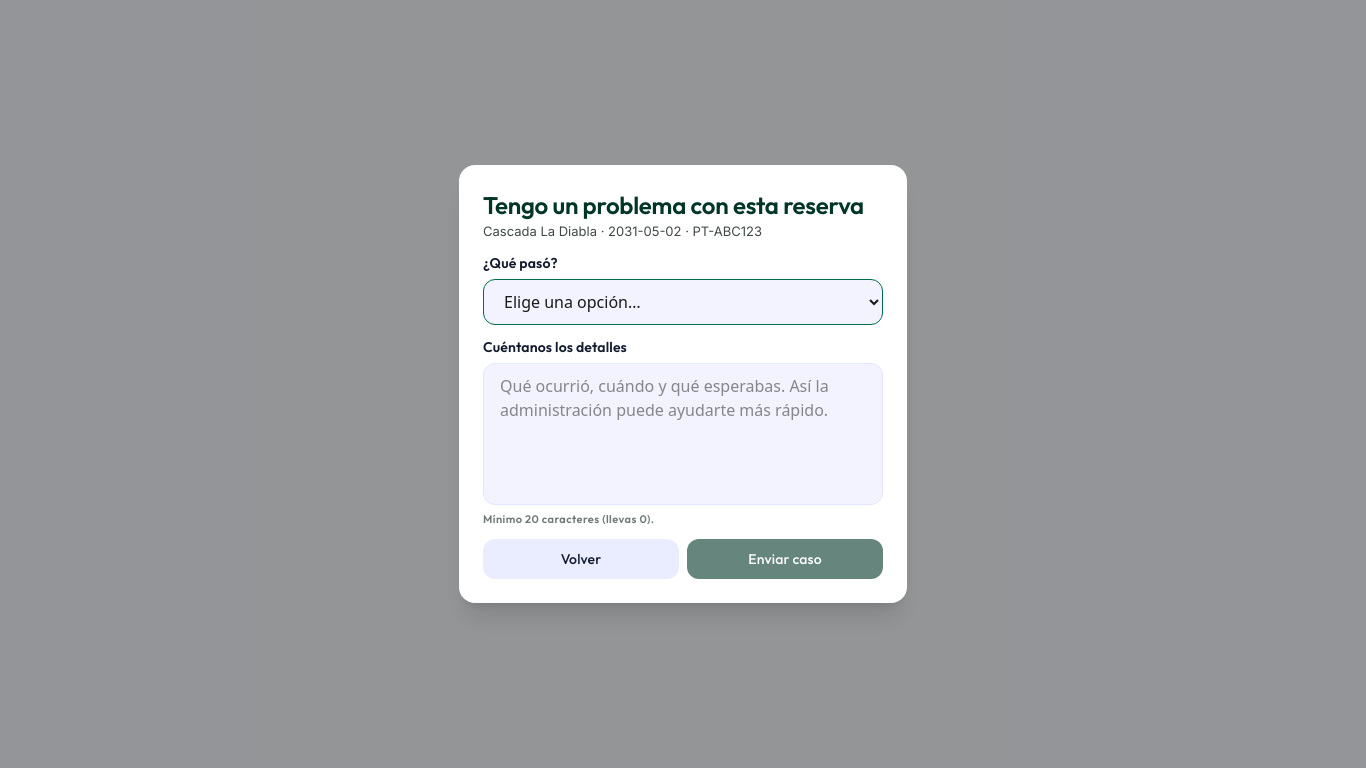
Test: ModalProblema › muestra el error del servidor y deja el formulario para corregir
This screenshot has width=1366, height=768.
Step 1. Select "Otro problema" in the dropdown → (683, 302), box [483,279,883,325]
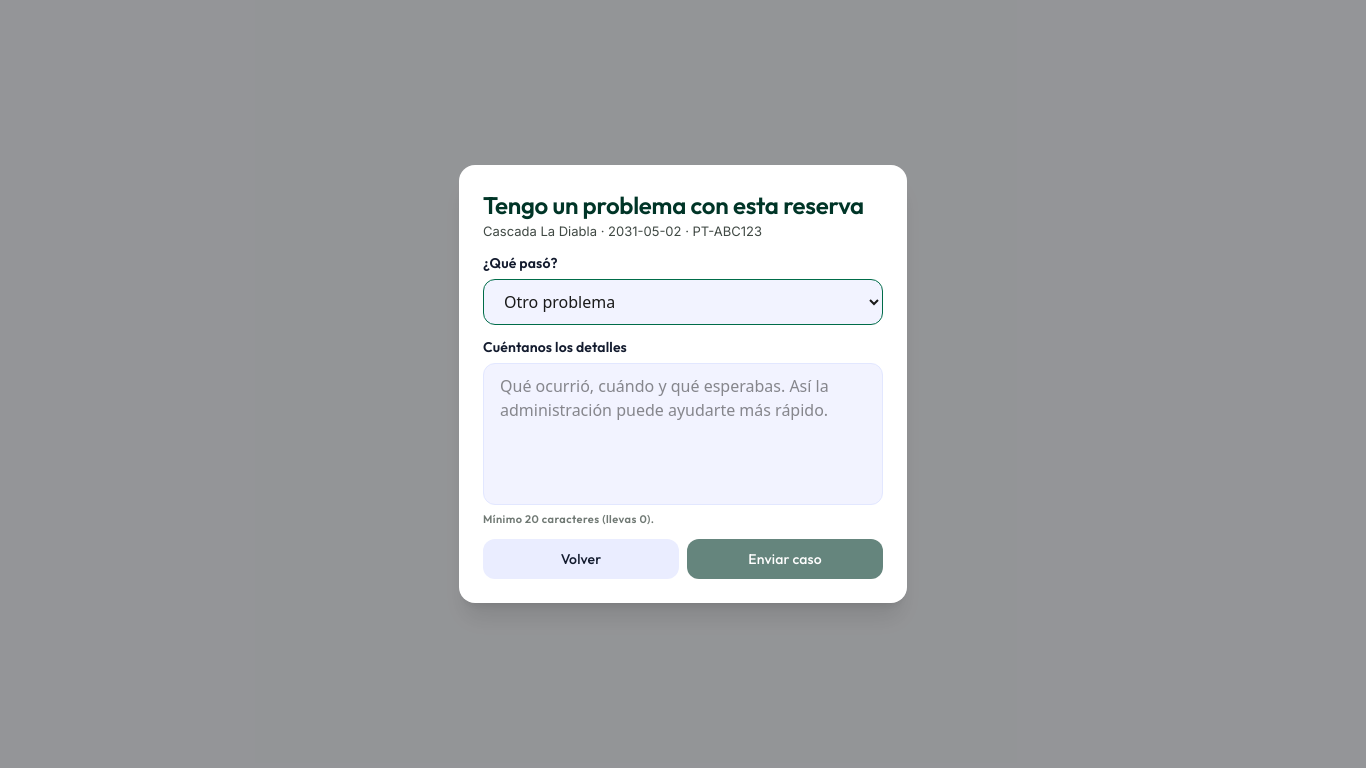
Step 2. Type "Llegamos a la hora y el negocio estaba cerrado." into the text box → (683, 434), box [483,363,883,505]
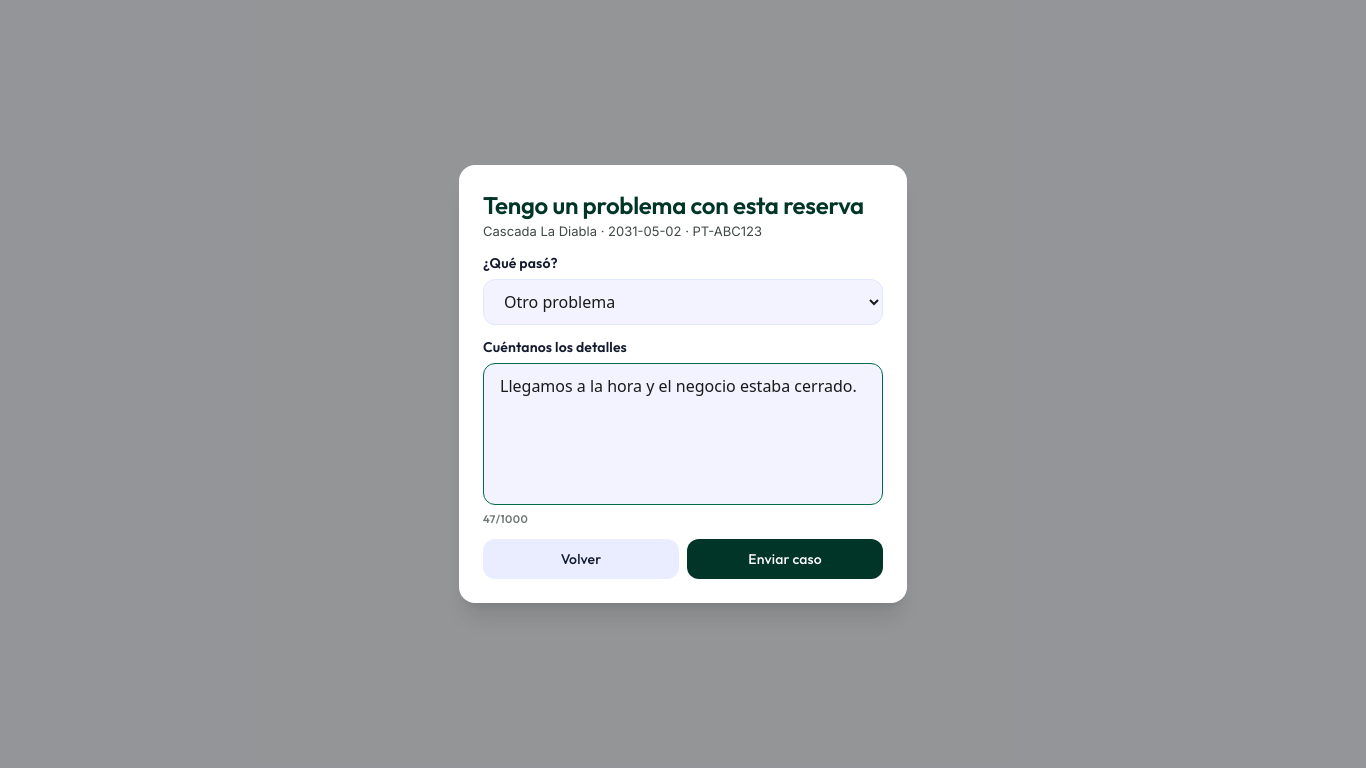
Step 3. Click the button "Enviar caso" → (785, 559), box [687,539,883,579]
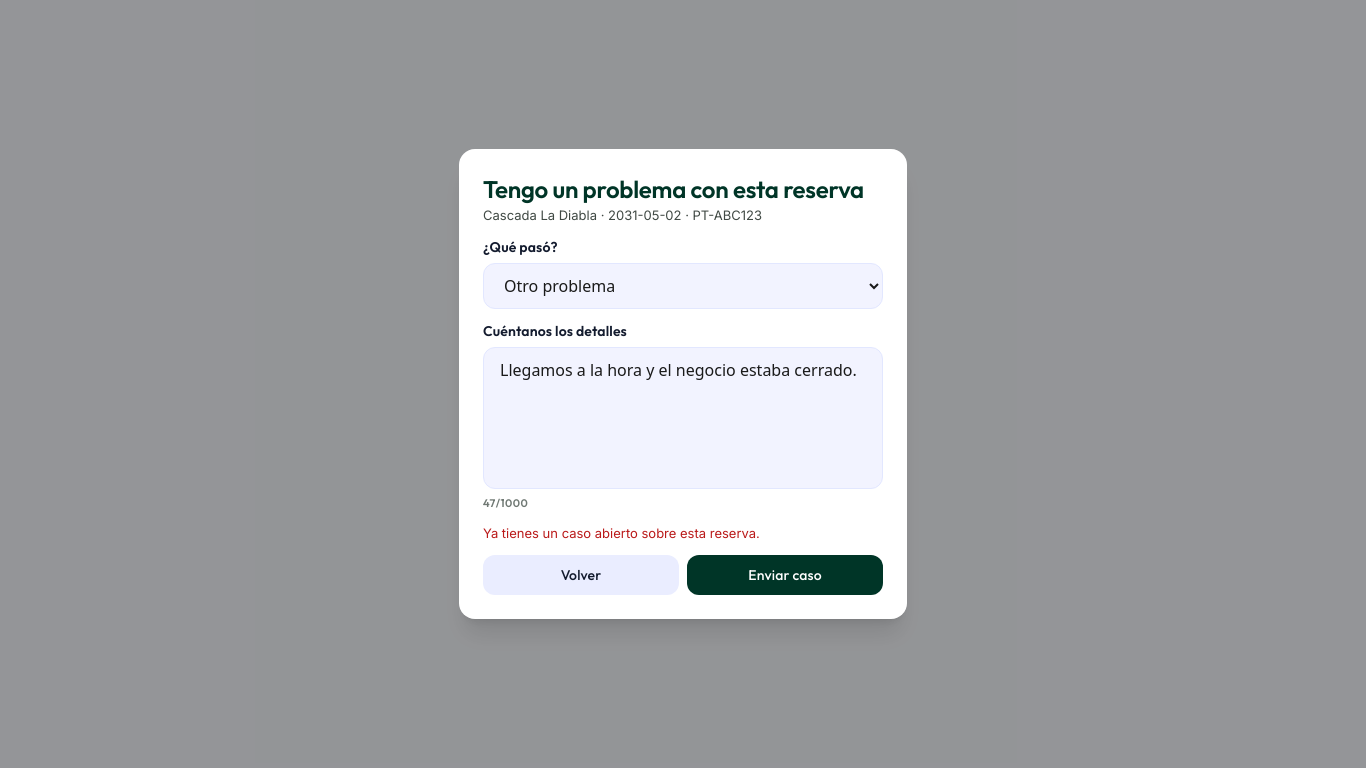
Expected: the button "Enviar caso" is shown, [687,555,883,595]
Result: the message shows "Ya tienes un caso abierto" at [483,525,760,541]
